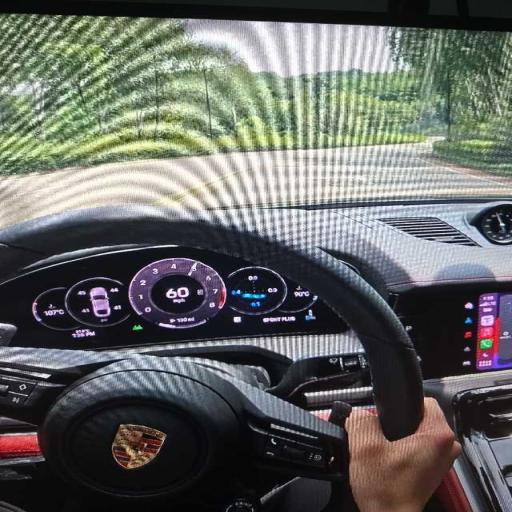car: (0, 2, 511, 511), (89, 287, 111, 317)
lane: (0, 143, 511, 226)
person: (347, 398, 460, 511)
